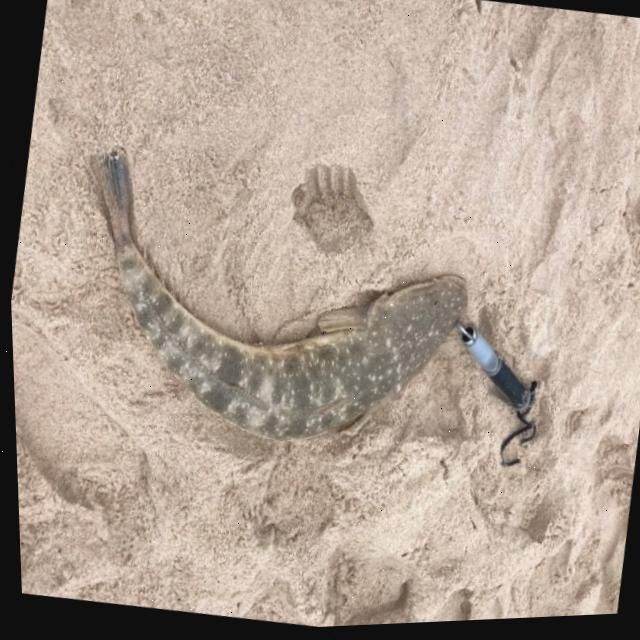Flathead: (30, 130, 500, 496)
